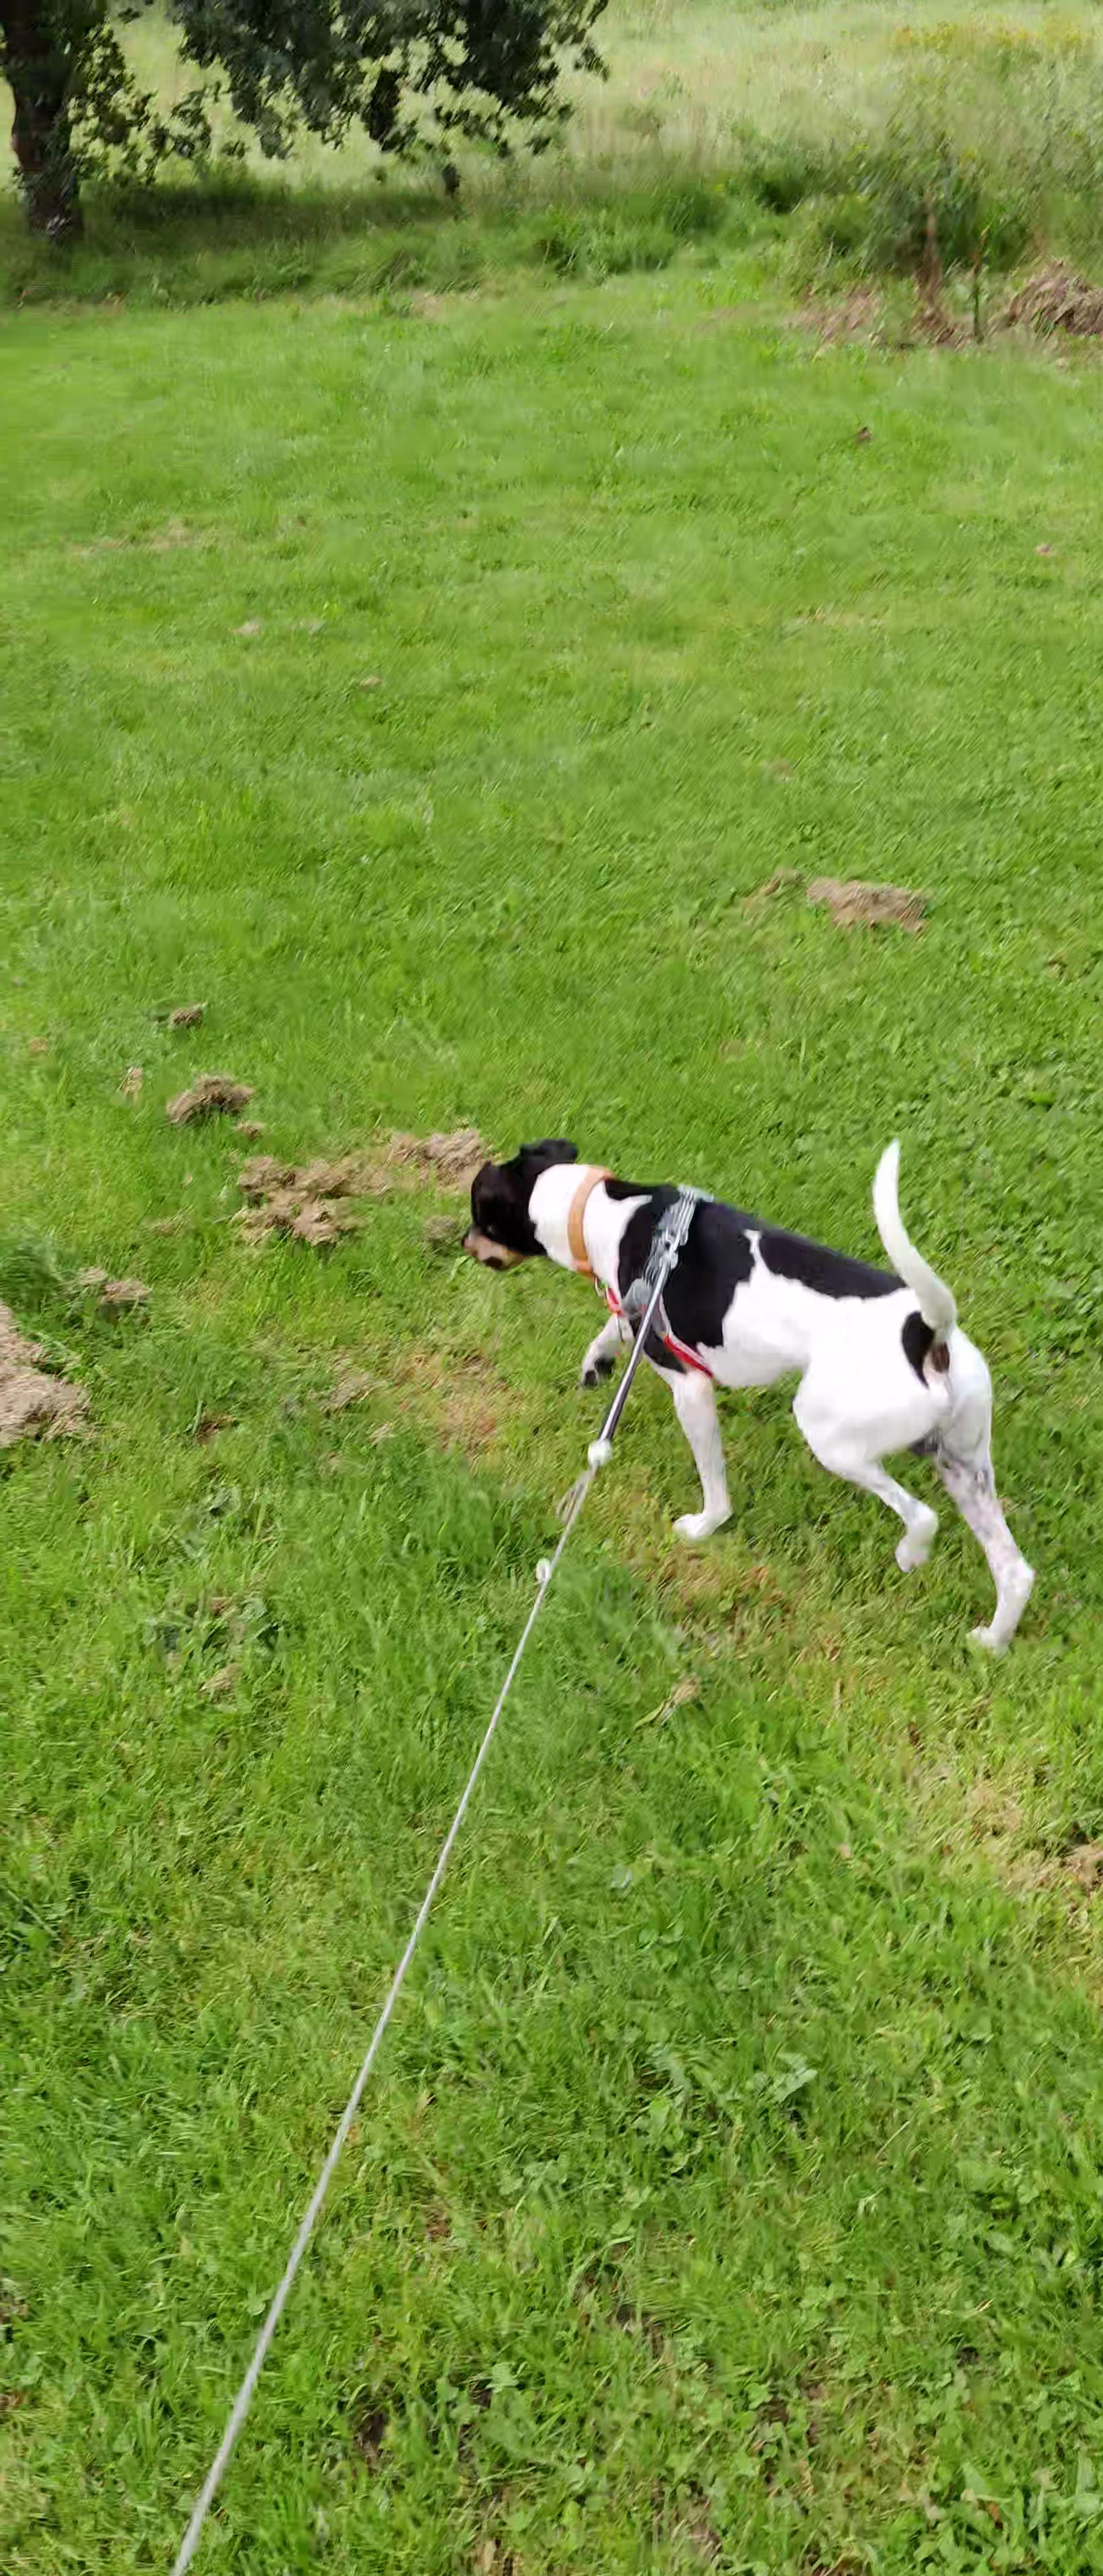Dog: (452, 1081, 1042, 1666)
